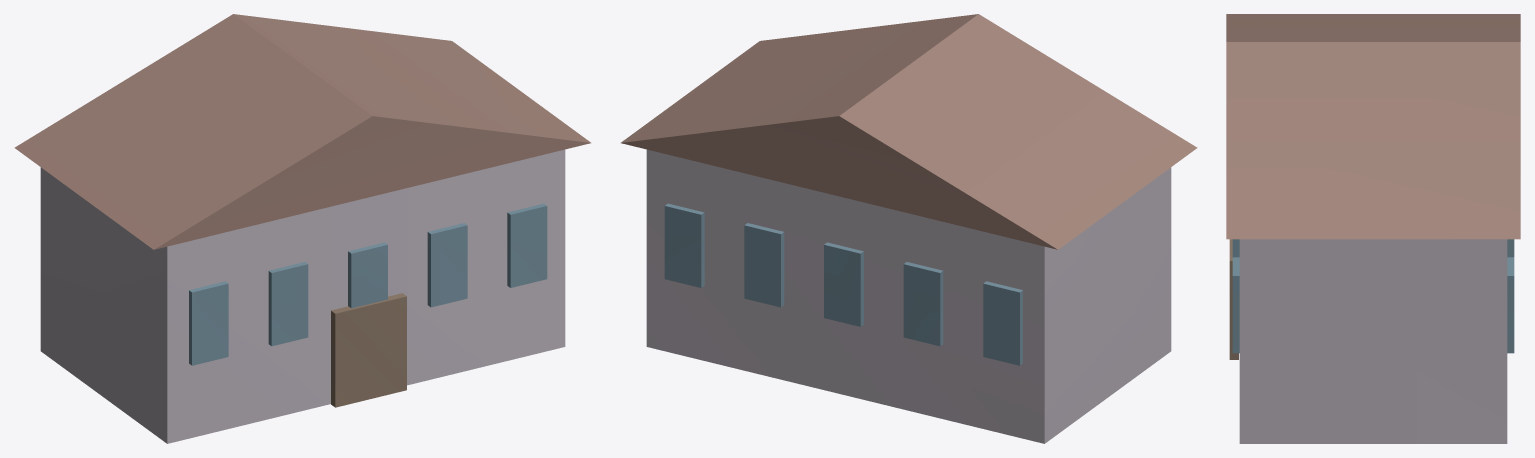
Rendered from greenhouse-02.glb.
3 renders of one model, left to right at view 1: azimuth 30°, elevation 25°; view 2: azimuth 150°, elevation 25°; view 3: azimuth 270°, elevation 25°, orthographic. The views are drawn at different scales.
Parts seen in each view (by area): view 1: world; view 2: world; view 3: world.
Boxes of the visible parts, x1=… form: world: x1=14, y1=14, x2=590, y2=443; world: x1=621, y1=14, x2=1197, y2=443; world: x1=1226, y1=14, x2=1520, y2=443.
Bounding box in the file's own units: 1.95 × 1.21 × 1.08.
